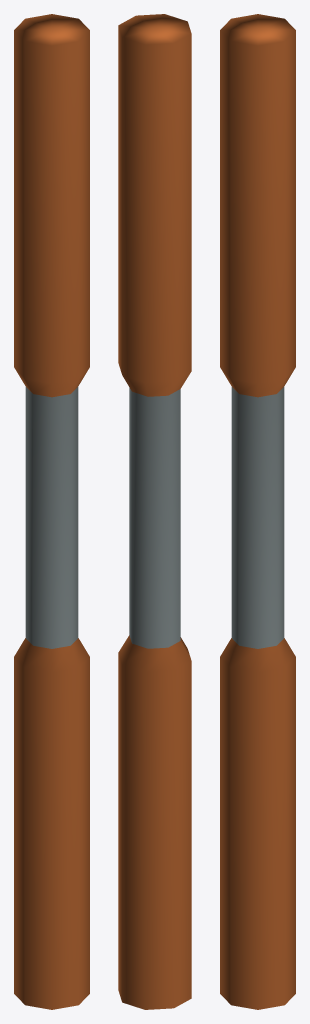
File: SM_pole.fbx
The picture shows the model from 3 angles, left to right: view 1: azimuth 90°, elevation 25°; view 2: azimuth 210°, elevation 25°; view 3: azimuth 270°, elevation 25°; orthographic projection.
Visible parts, largest first — view 1: pole; view 2: pole; view 3: pole.
Boxes of the visible parts, x1,y1,x2,y2 form: pole: [14, 14, 89, 1009]; pole: [118, 14, 191, 1009]; pole: [220, 14, 295, 1009].
Bounding box in the file's own units: 83.74 × 1177 × 83.74.
